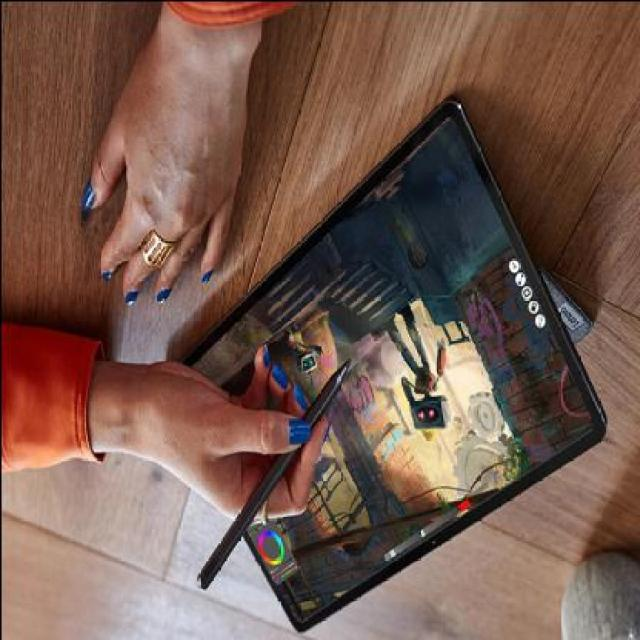tablet: (187, 85, 583, 586)
